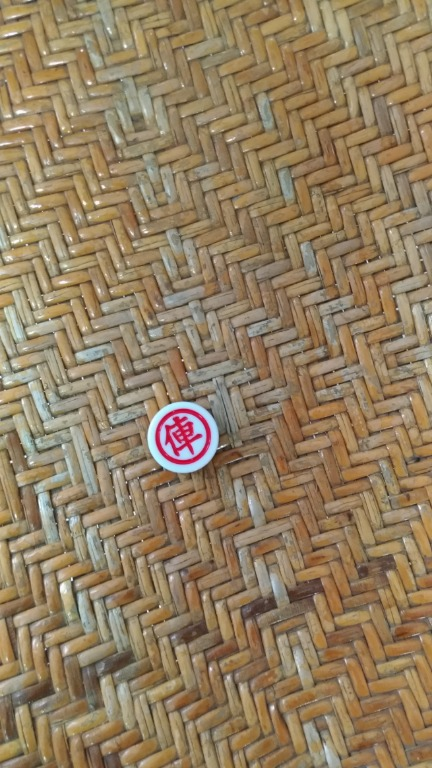r-rook: (135, 398, 237, 483)
